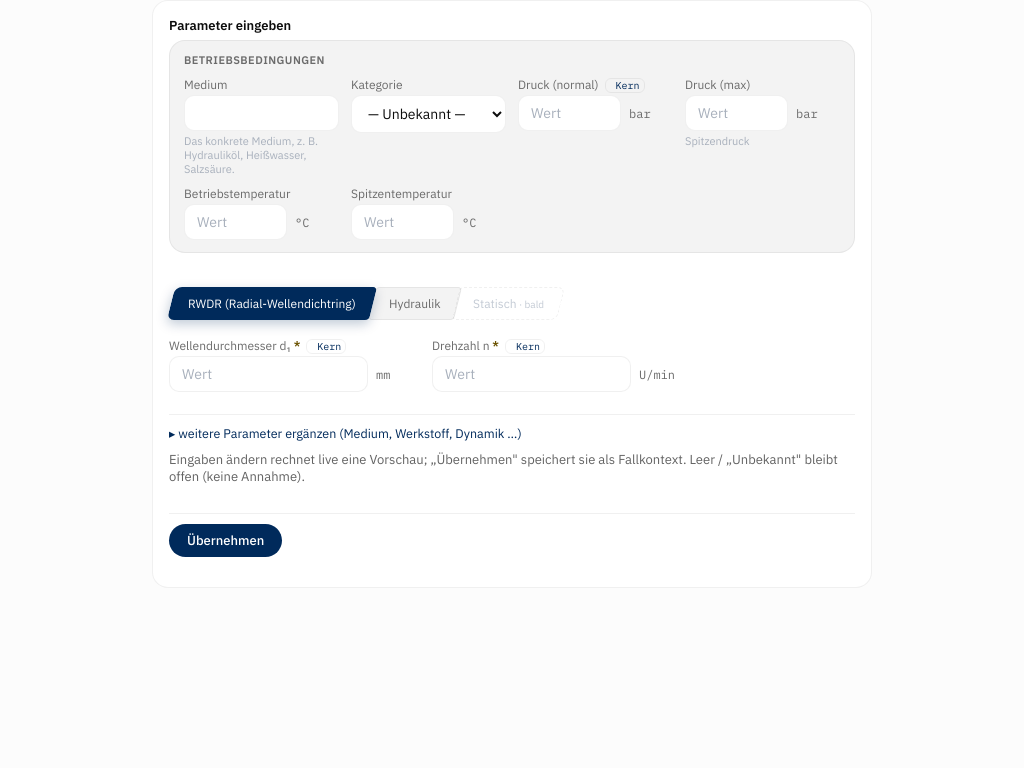
it: ParameterForm — Modell R2 (hydrate · live preview · adopt, no wipe) › a field change shows a debounced backend Vorschau, clearly marked nicht übernommen
Step 1. Type "40" into the field with test id "param-wellendurchmesser" → x=268, y=374, box [169,356,368,392]
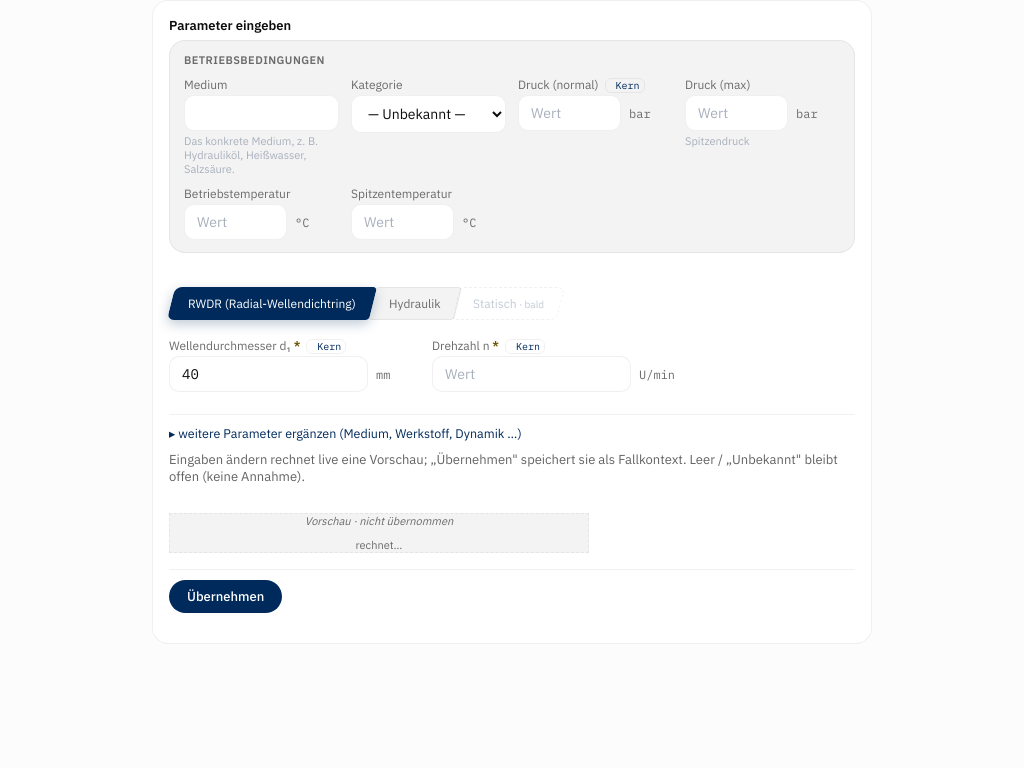
Step 2. Type "5000" into the field with test id "param-drehzahl" → x=532, y=374, box [432,356,631,392]
Wait 400 ms
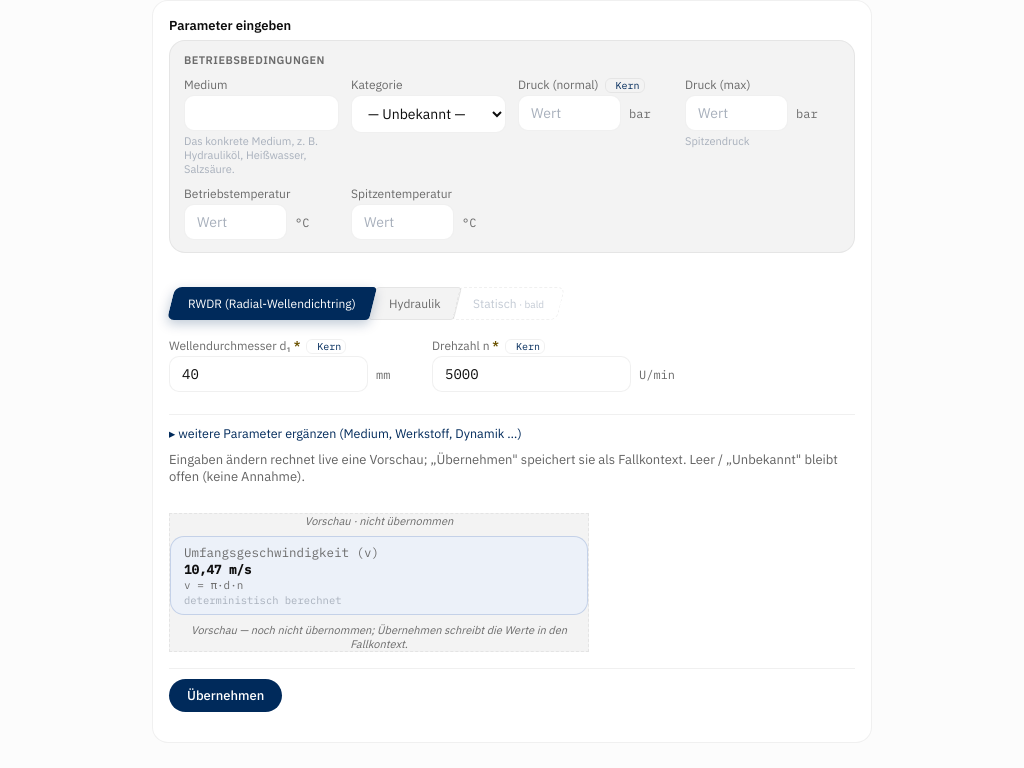
Now the element with test id "preview-panel" shows "Vorschau · nicht übernommen", box [305,514,453,528]
Now the element with test id "preview-panel" shows "10,47", box [184,561,222,577]
